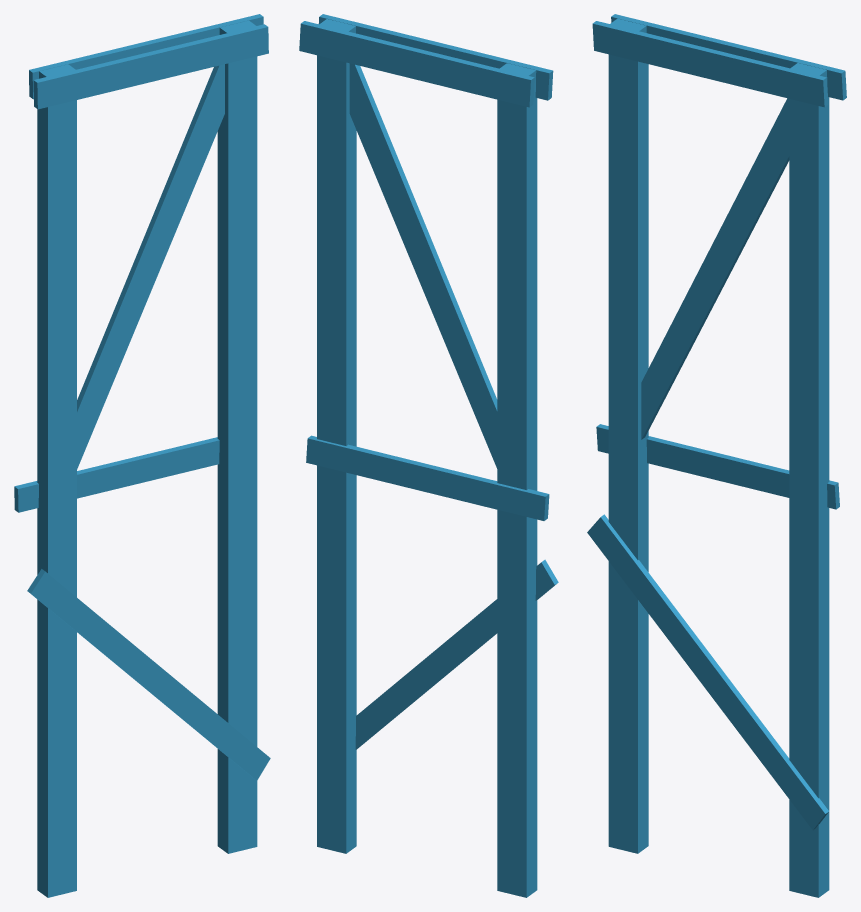
The model's file is WoodPlatform_Support2.fbx.
3 views of the same model, side by side, from view 1: azimuth 30°, elevation 25°; view 2: azimuth 150°, elevation 25°; view 3: azimuth 330°, elevation 25° (orthographic).
Visible parts, largest first — view 1: WoodPlatform_Support2; view 2: WoodPlatform_Support2; view 3: WoodPlatform_Support2.
Boxes of the visible parts, x1=… form: WoodPlatform_Support2: x1=14, y1=14, x2=270, y2=897; WoodPlatform_Support2: x1=299, y1=14, x2=558, y2=897; WoodPlatform_Support2: x1=587, y1=14, x2=846, y2=897.
Size of the model in its own units: 189 by 603 by 21.72.
